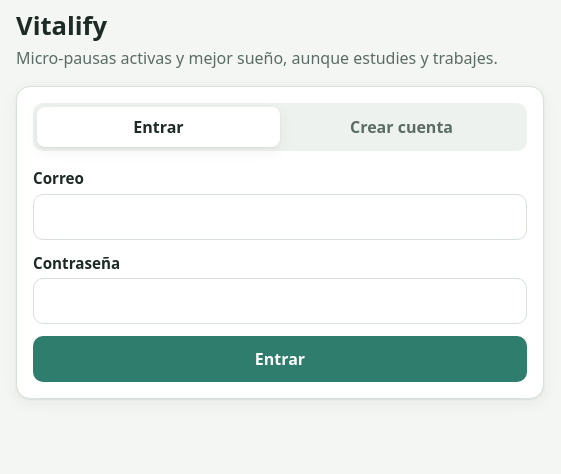
Test: Entrar › credenciales inválidas muestran el mensaje de la API
Type "ana@x.co" into the field labelled "Correo".
click(280, 216); type("ana@x.co")  # box top-left (33, 194), bottom-right (527, 240)
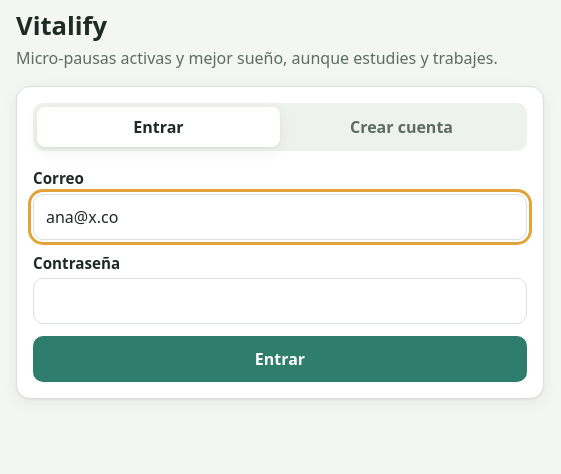
Type "mala" into the password field labelled "Contraseña".
click(280, 301); type("mala")  # box top-left (33, 278), bottom-right (527, 324)
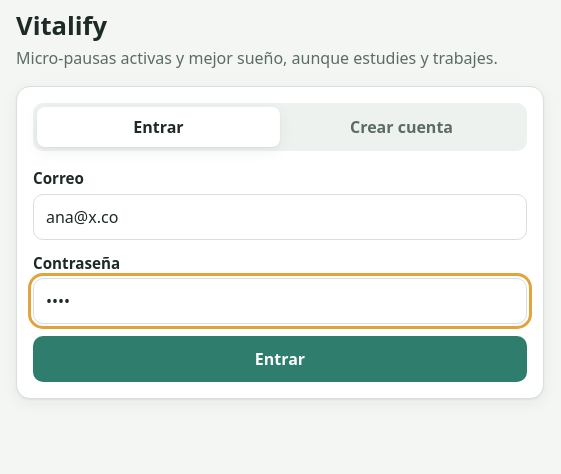
Click the button "Entrar".
click(280, 359)  # box top-left (33, 336), bottom-right (527, 382)
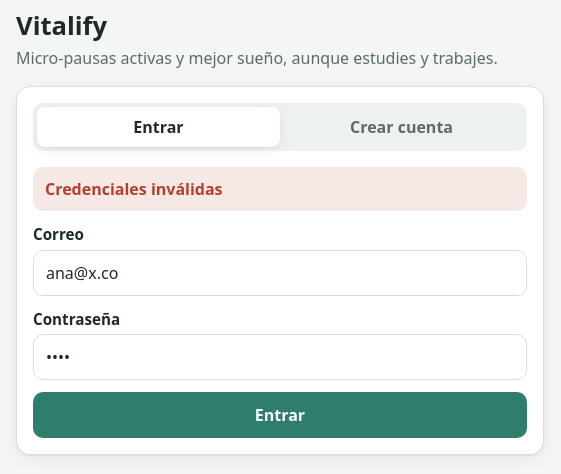
Check: the message reads "Credenciales inválidas", box top-left (45, 178), bottom-right (223, 200)
